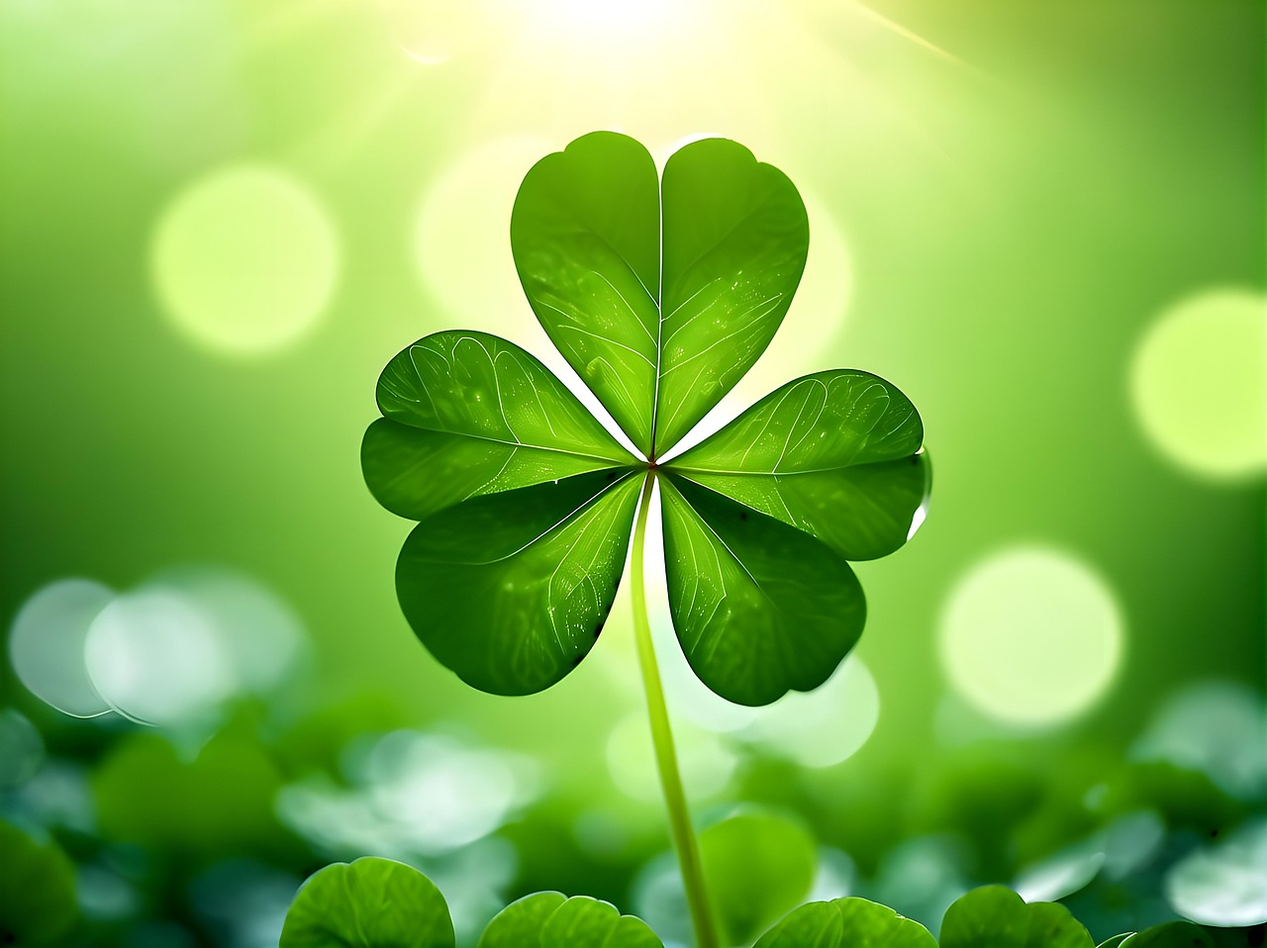daikon: (335, 120, 983, 743)
